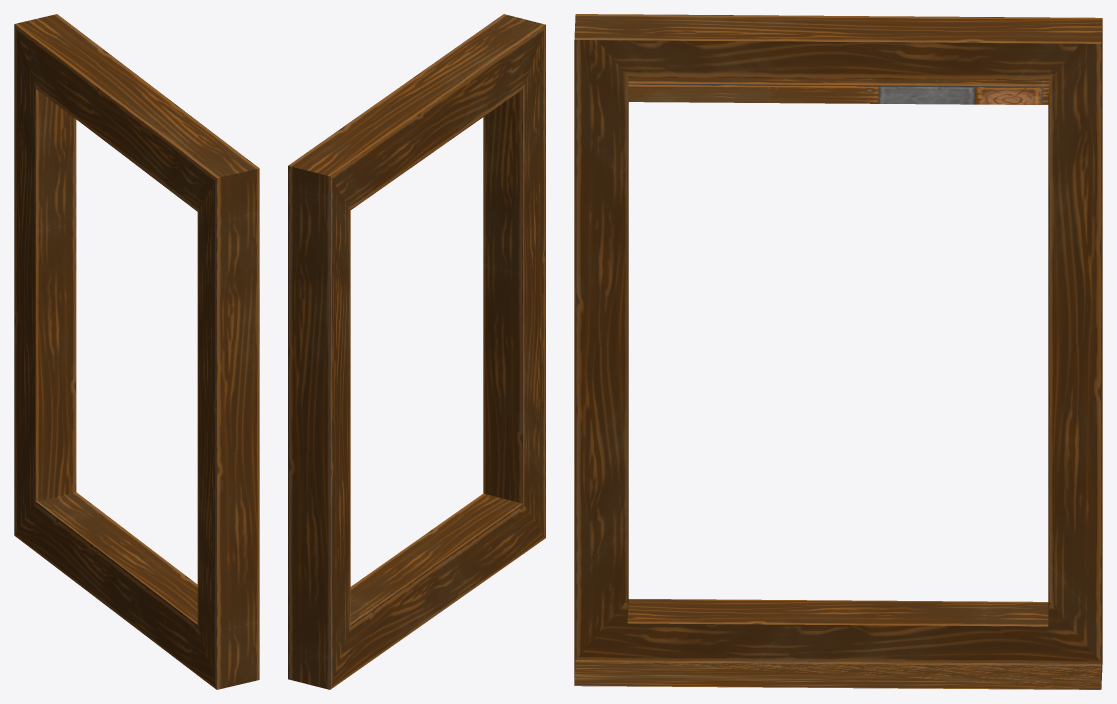
3 views of the same model, side by side, from view 1: azimuth 30°, elevation 25°; view 2: azimuth 150°, elevation 25°; view 3: azimuth 270°, elevation 25° (orthographic). The views are drawn at different scales.
Visible parts, largest first — view 1: Cube.795; view 2: Cube.795; view 3: Cube.795.
Boxes of the visible parts, x1,y1,x2,y2 form: Cube.795: (14,14,259,689); Cube.795: (288,14,545,689); Cube.795: (574,14,1102,689).
Bounding box in the file's own units: 21.09 × 212 × 157.
1 material, 1 textured.
